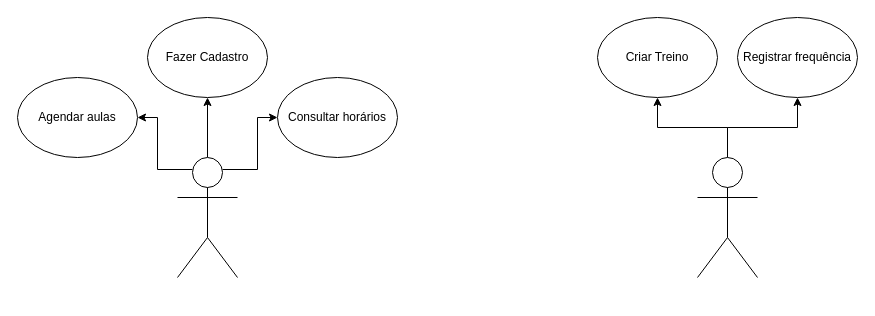
Some shapes in this 875 by 316 pixel diagram are drawn without their labels. Here are the shapes that lost their labels. From the top down, the centre of each, then its label:
At point 207,217: "Aluno".
At point 727,217: "Instrutor".
